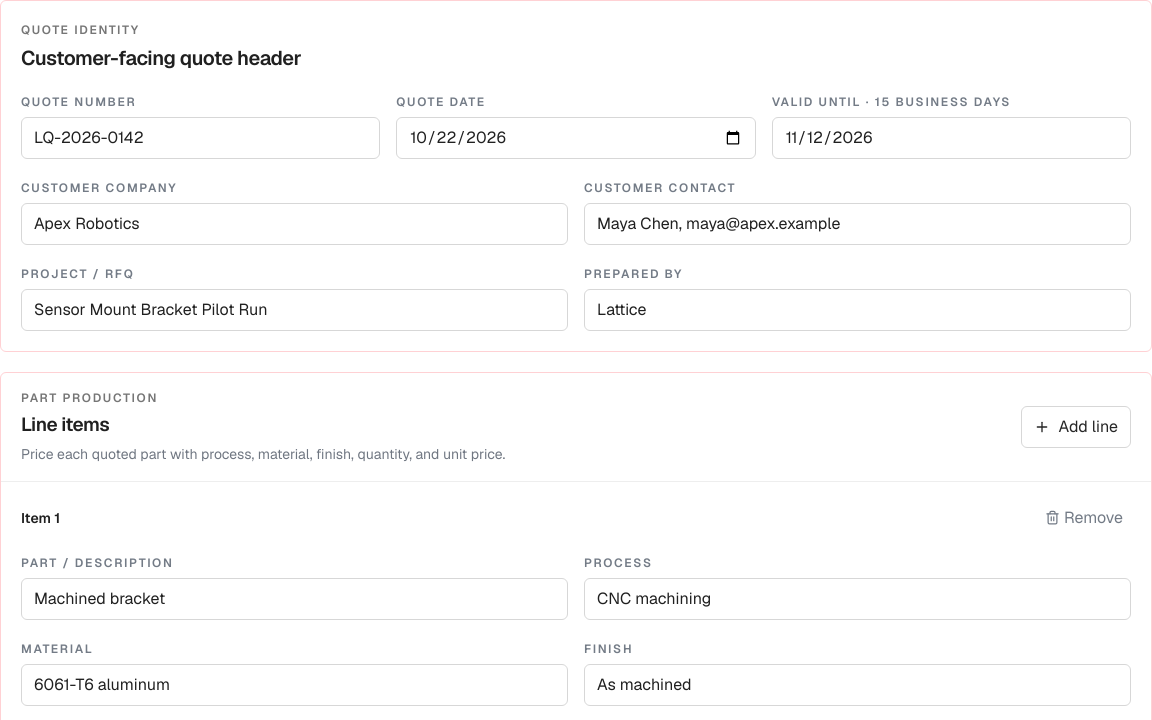
it: CustomerQuoteBuilder › adds a second line item
Click the button "Add line". click: [1076, 427]
box: [1022,406,1131,448]
(page scrolled)
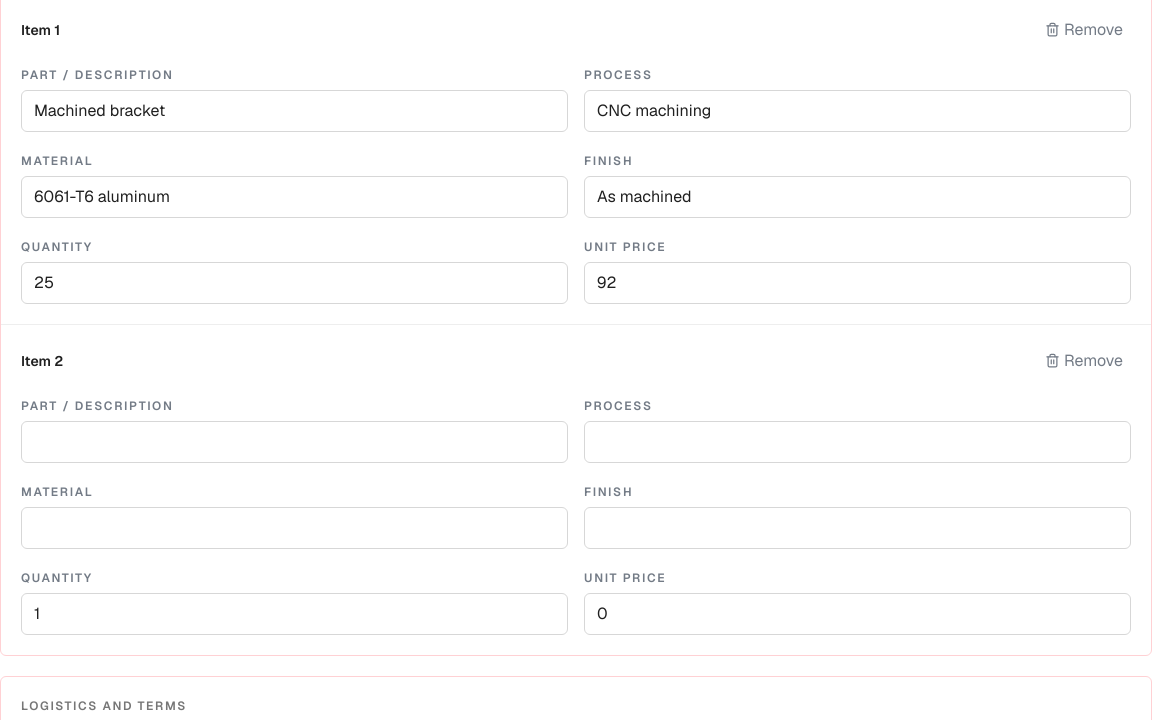
Now the text "Item 2" is shown, box [21,350,63,370]
